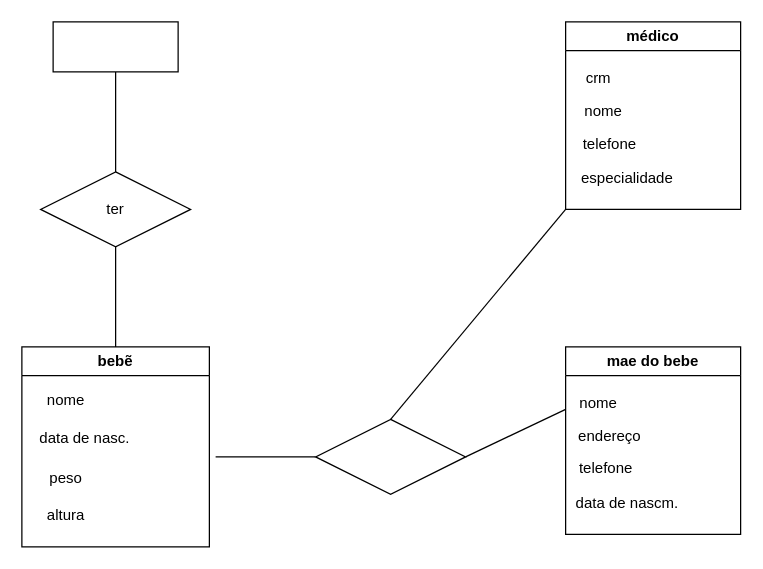
The diagram is 763 pixels wide and 569 high, and some of its shapes have lost their labels. Each missing label, with the centre of its shape:
"berçario" goes at (115,46).
"parir" goes at (390,456).
